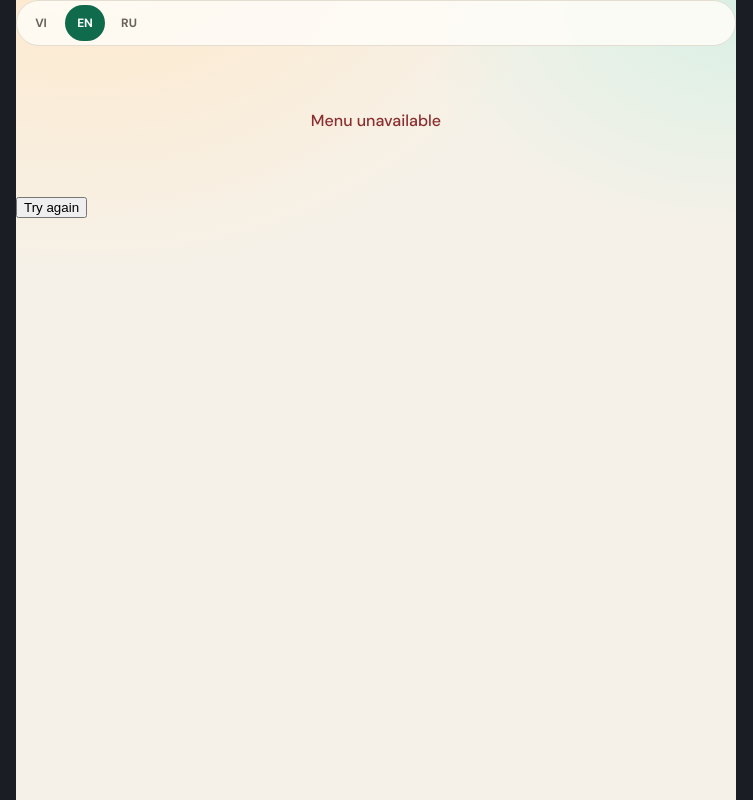
Test case: offers a retry after a failed read
Expected: the message reads "Menu unavailable", [311,110,441,131]
What coordinates should you click on to do the following:
click the button "Try again"
I would click on:
 (52, 208)
Its box is [16,197,87,218].
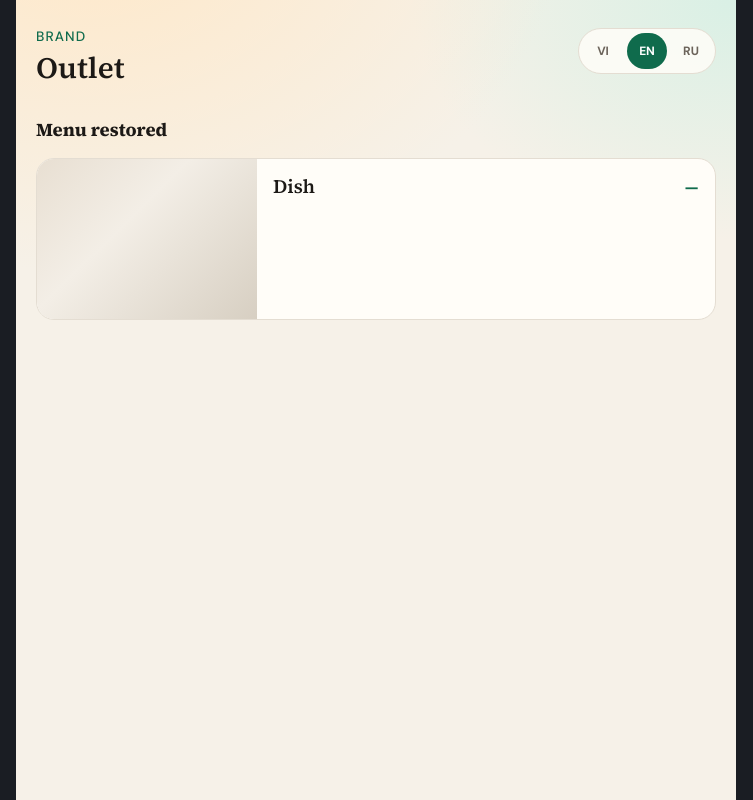
Expected: the heading "Menu restored" is shown, [36,117,167,142]
